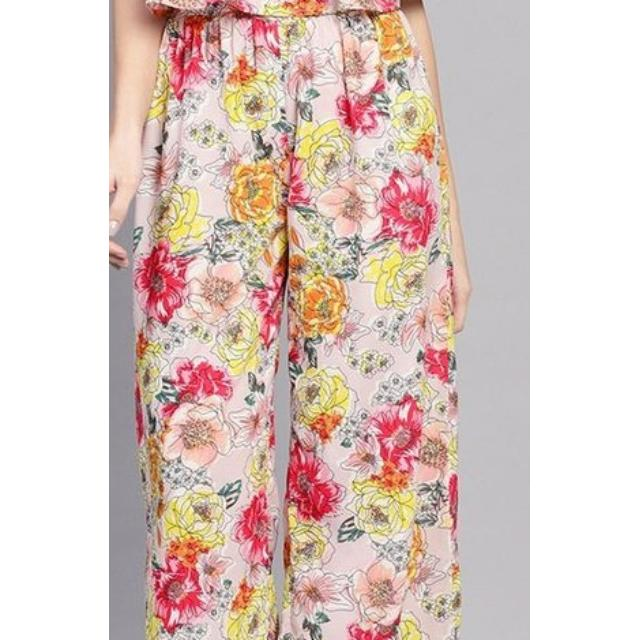polyester: (128, 0, 436, 640)
